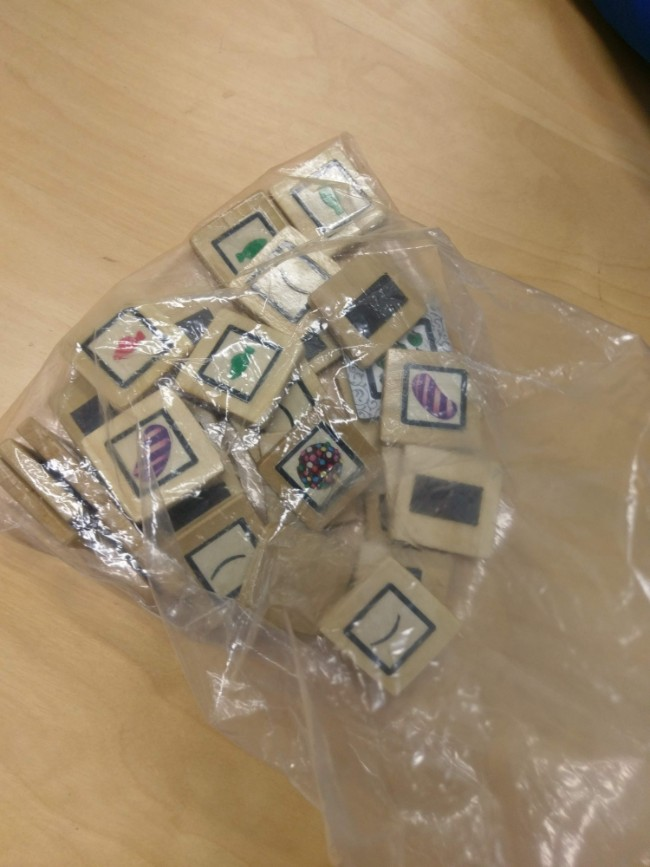cookie: (274, 422, 367, 515)
